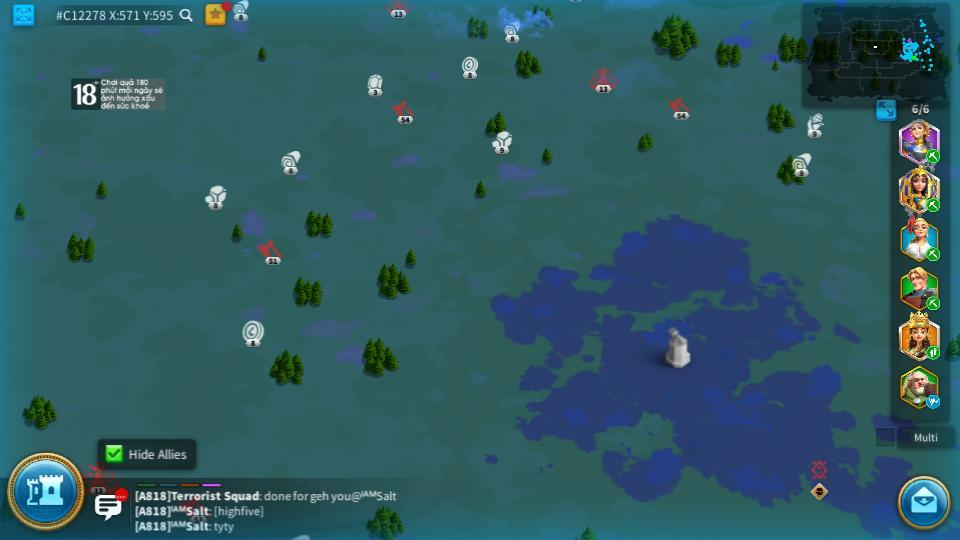gem-z-out: (365, 74, 383, 96), (290, 534, 311, 539)
march_idle: (925, 396, 942, 408)
march_marching: (925, 196, 941, 211), (925, 345, 941, 359), (925, 149, 941, 161), (925, 297, 942, 308)
